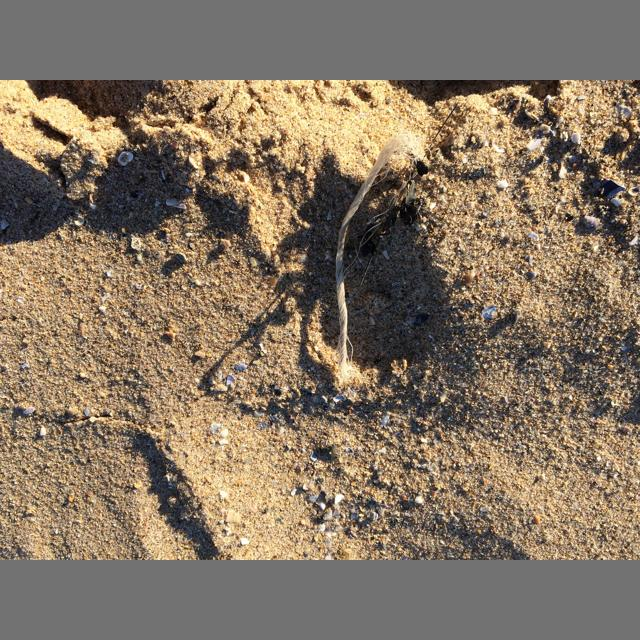litter: (221, 260, 304, 507)
